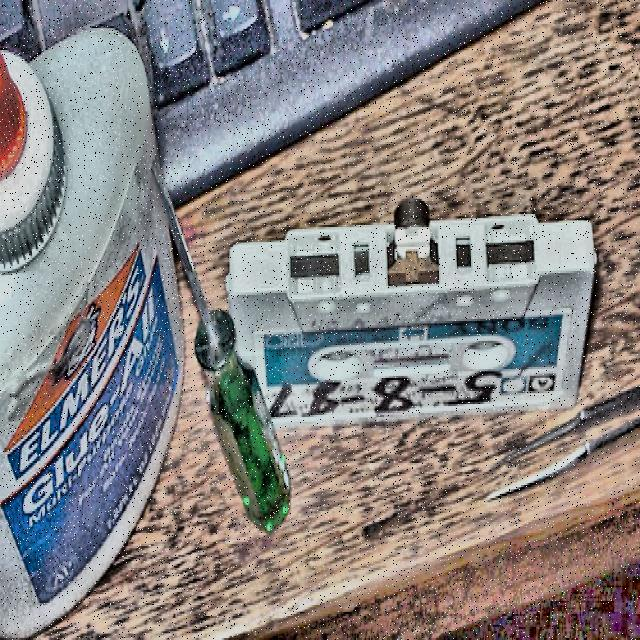screwdriver: (152, 158, 290, 532)
